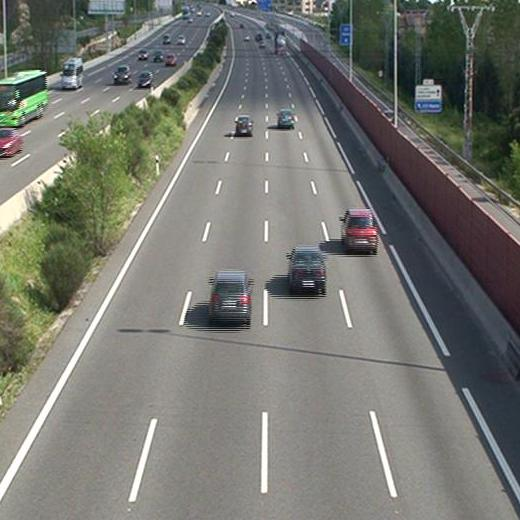car: (209, 271, 252, 325), (287, 246, 327, 294), (338, 209, 379, 254), (277, 109, 296, 130), (234, 117, 253, 137)
tank-truck: (274, 32, 287, 54)
